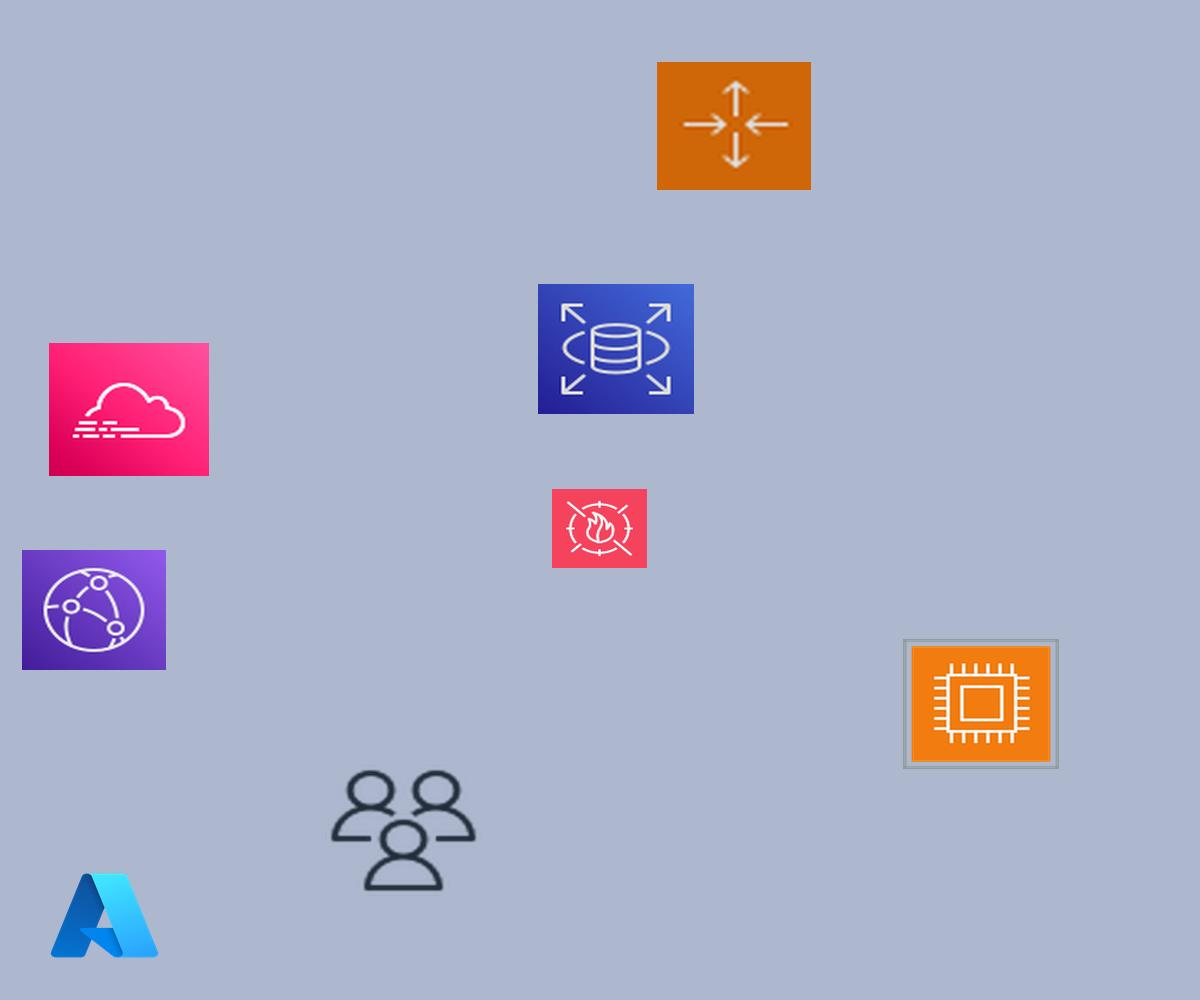AWS-Category_Compute: (903, 639, 1059, 769)
AWS-CloudFront: (22, 550, 166, 670)
AWS-CloudTrail: (49, 343, 209, 476)
AWS-RDS: (538, 284, 694, 414)
AWS-Res_Users: (325, 765, 482, 896)
AWS-Scaling-group: (657, 62, 811, 190)
AWS-WAF: (552, 489, 647, 568)
Azure_services: (46, 867, 163, 964)
